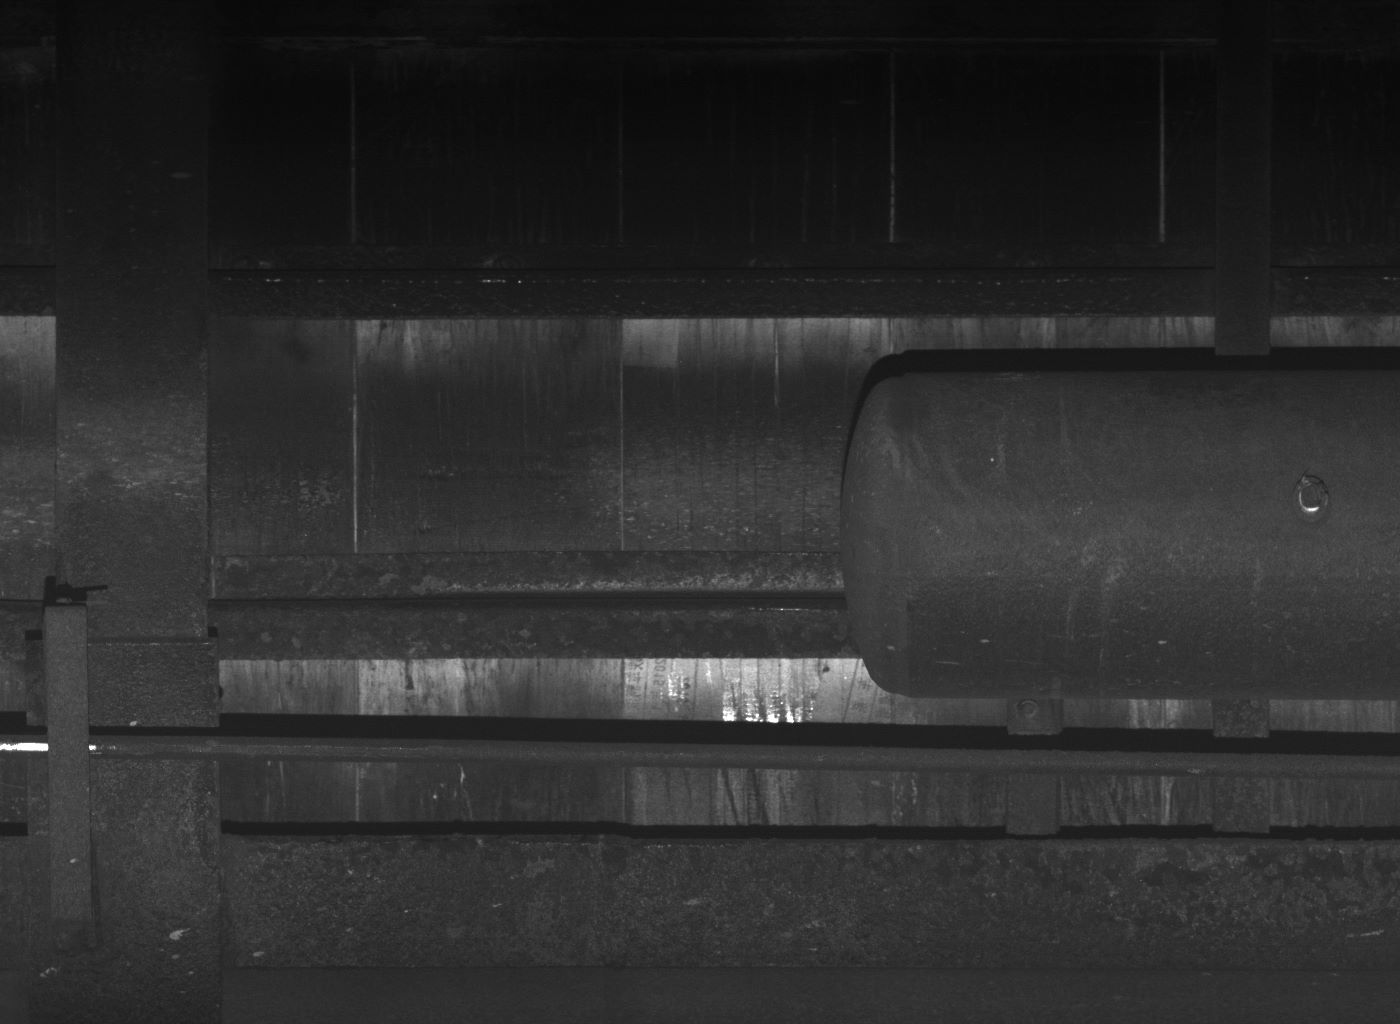normal: (42, 585, 97, 922)
